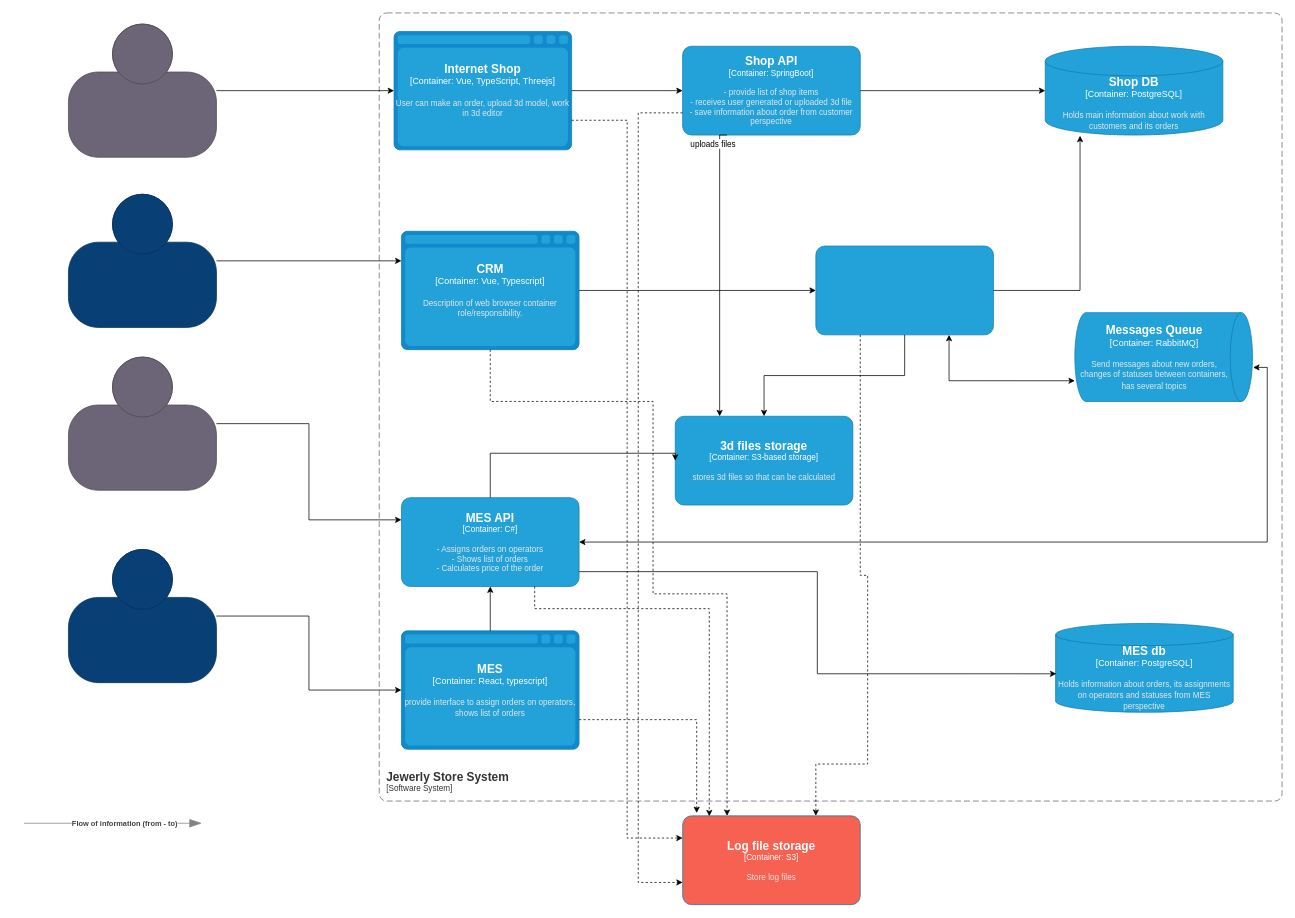
Image size: 1295x918. Some labels were removed from this diagram. Each missing label, with the centre of its shape:
"API user [Person] Description of external person." goes at pixel 142 423.
"CRM API [Container: SpringBoot] Description of container role/responsibility." goes at pixel 904 290.
"Customer [Person] Description of external person." goes at pixel 142 90.
"Operator [Person] Takes order in work, manufactures jewerly" goes at pixel 142 616.
"Seller [Person] Operates with order, confirms manufacturing for the user" goes at pixel 142 260.
